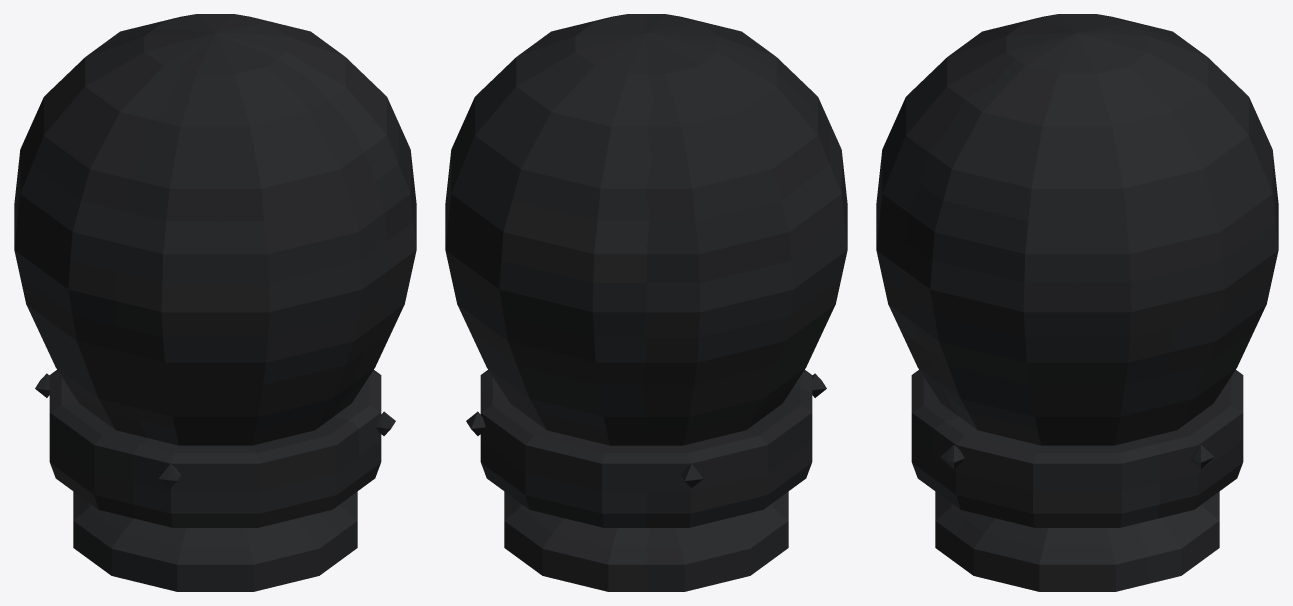
Rendered from decolight_lage198globe_inv.obj.
3 views of the same model, side by side, from view 1: azimuth 30°, elevation 25°; view 2: azimuth 150°, elevation 25°; view 3: azimuth 270°, elevation 25° (orthographic).
Parts seen in each view (by area): view 1: decolight_lage198globe_inv; view 2: decolight_lage198globe_inv; view 3: decolight_lage198globe_inv.
Boxes of the visible parts, x1,y1,x2,y2 form: decolight_lage198globe_inv: (14,14,416,591); decolight_lage198globe_inv: (445,14,847,591); decolight_lage198globe_inv: (876,14,1278,591).
Size of the model in its own units: 0.7124 by 0.975 by 0.7124.
